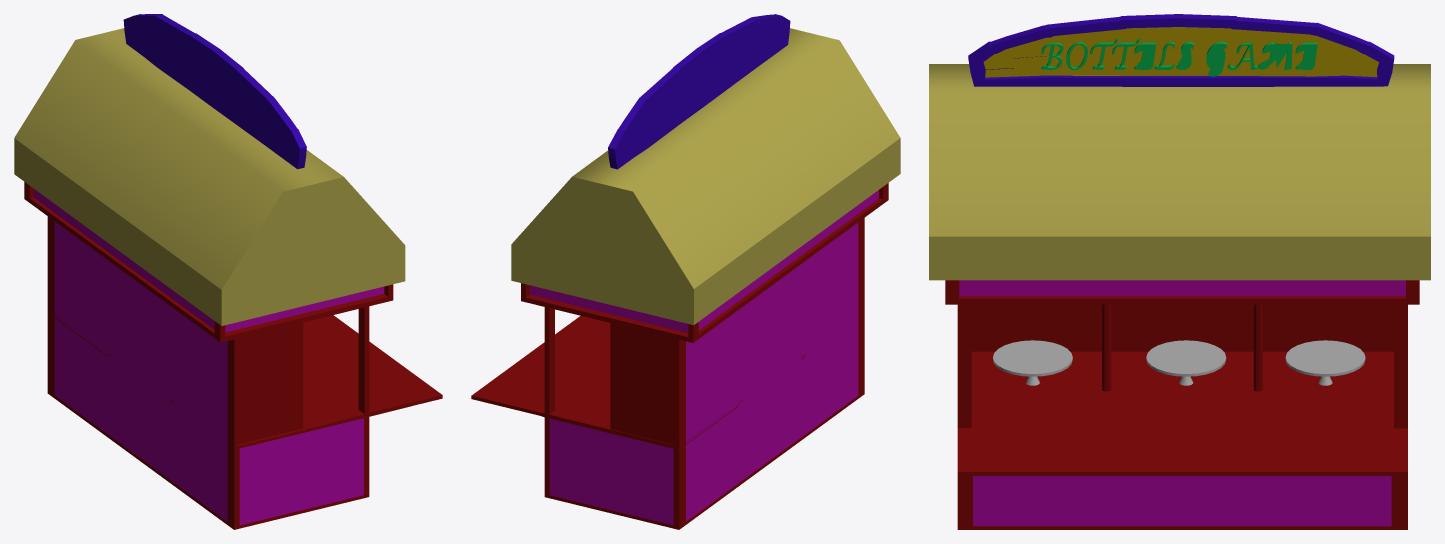
Rendered from 2_second_booth.fbx.
The picture shows the model from 3 angles, left to right: view 1: azimuth 30°, elevation 25°; view 2: azimuth 150°, elevation 25°; view 3: azimuth 270°, elevation 25°; orthographic projection. The views are drawn at different scales.
Parts seen in each view (by area): view 1: polySurface108; view 2: polySurface108; view 3: polySurface108.
Part boxes in pixels (box(x1,y1,x2,y2)): polySurface108: box(14, 14, 442, 529); polySurface108: box(471, 14, 900, 529); polySurface108: box(929, 14, 1430, 529).
Bounding box in the file's own units: 3.74 × 6.06 × 5.77.
